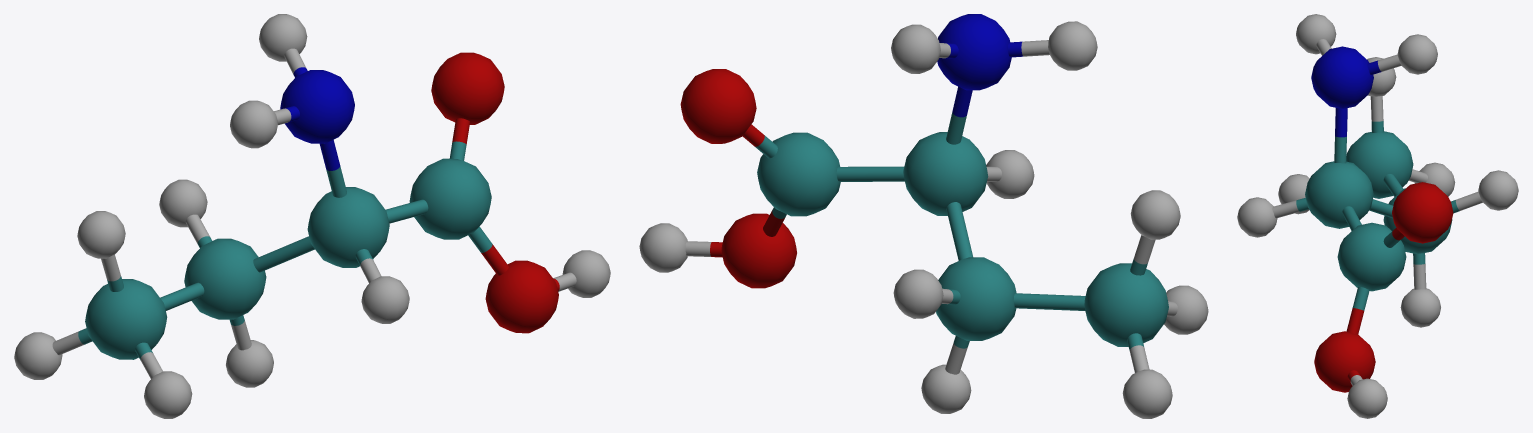
Rendered from vmdscene.obj.
3 views of the same model, side by side, from view 1: azimuth 30°, elevation 25°; view 2: azimuth 150°, elevation 25°; view 3: azimuth 270°, elevation 25° (orthographic). The views are drawn at different scales.
Visible parts, largest first — view 1: vmd_mol0_rep0; view 2: vmd_mol0_rep0; view 3: vmd_mol0_rep0.
Boxes of the visible parts, x1=… form: vmd_mol0_rep0: x1=14, y1=14, x2=610, y2=418; vmd_mol0_rep0: x1=639, y1=14, x2=1208, y2=418; vmd_mol0_rep0: x1=1237, y1=14, x2=1518, y2=418.
Bounding box in the file's own units: 1.62 × 1.03 × 0.8669.
